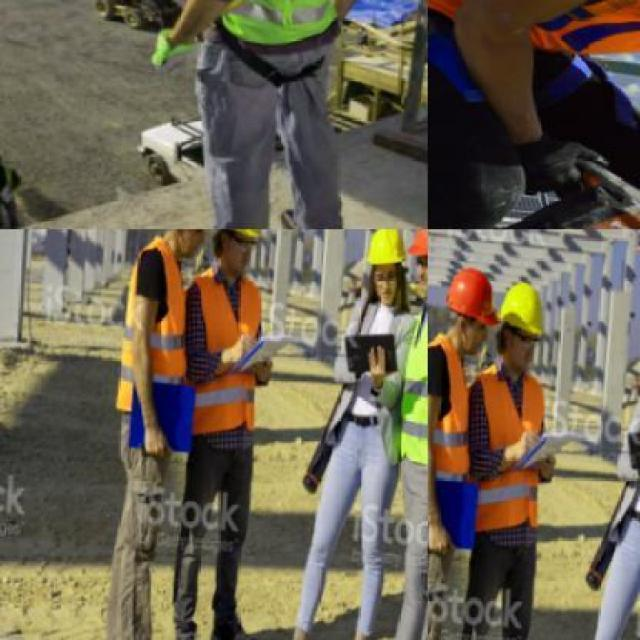hat: (438, 258, 504, 329), (492, 274, 550, 338), (360, 229, 411, 268), (208, 229, 266, 243), (402, 229, 426, 262)
